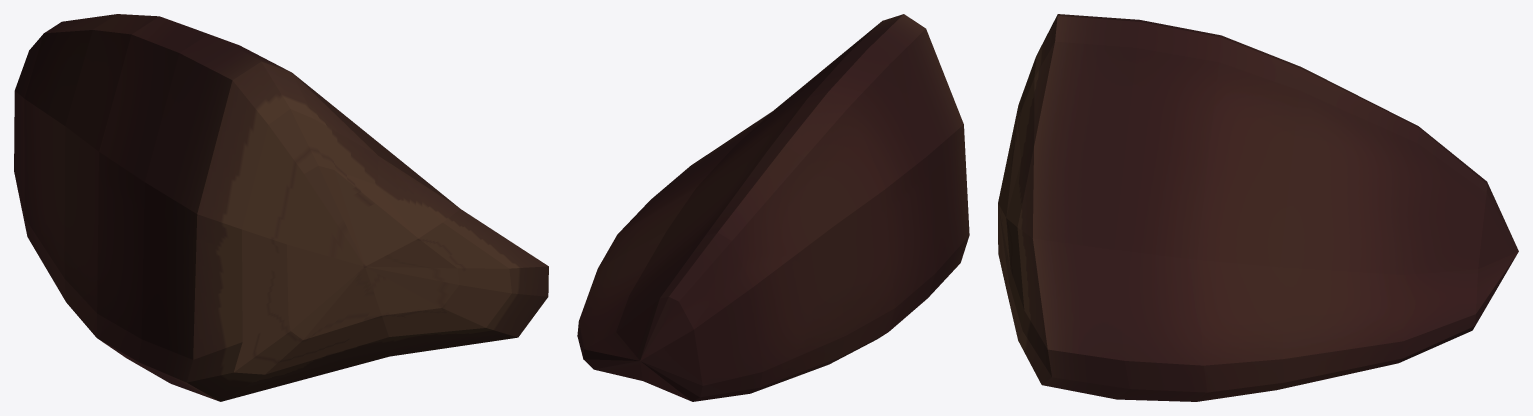
The model's file is critterSeedPeeled.fbx.
The picture shows the model from 3 angles, left to right: view 1: azimuth 30°, elevation 25°; view 2: azimuth 150°, elevation 25°; view 3: azimuth 270°, elevation 25°; orthographic projection. The views are drawn at different scales.
Parts seen in each view (by area): view 1: critterSeedPeeled; view 2: critterSeedPeeled; view 3: critterSeedPeeled.
Part boxes in pixels (x1,y1,x2,y2): critterSeedPeeled: [14, 14, 548, 401]; critterSeedPeeled: [577, 14, 969, 401]; critterSeedPeeled: [998, 14, 1518, 401].
Size of the model in its own units: 4.49 by 4.05 by 6.68.
